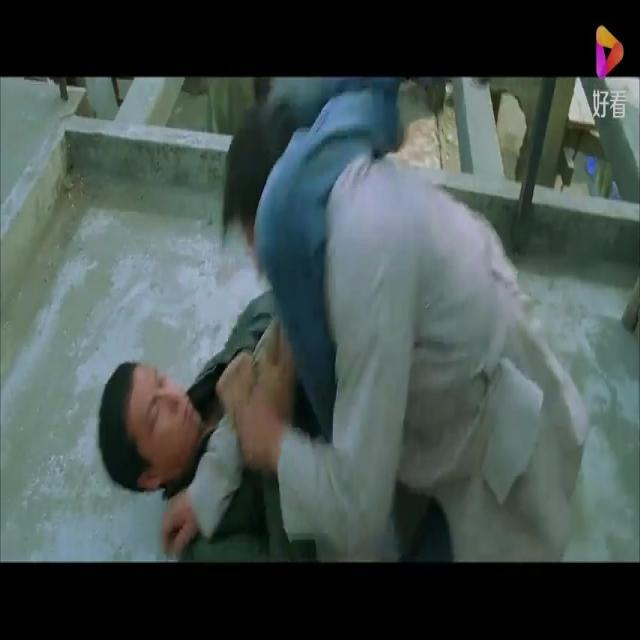fight: (86, 68, 618, 564)
